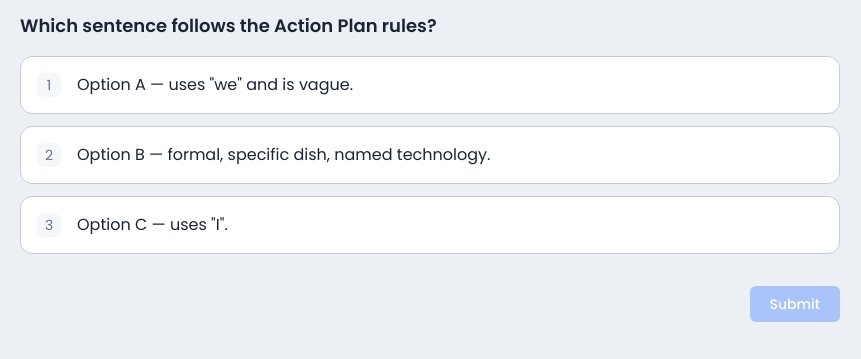
Test case: SlideMcq — incorrect answer › Submit is replaced by "Try again" message after wrong answer
The image size is (861, 359).
Click the button with aria-label "Option 1: Option A" at (215, 84), box [20,56,840,114]
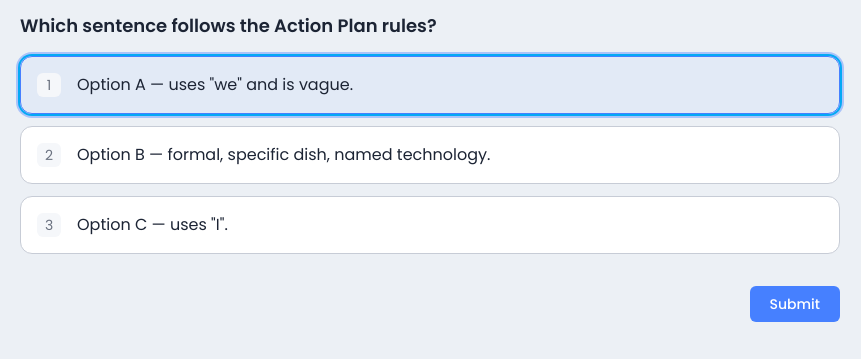
Click the button with aria-label "Submit answer" at (795, 304), box [750,286,840,322]
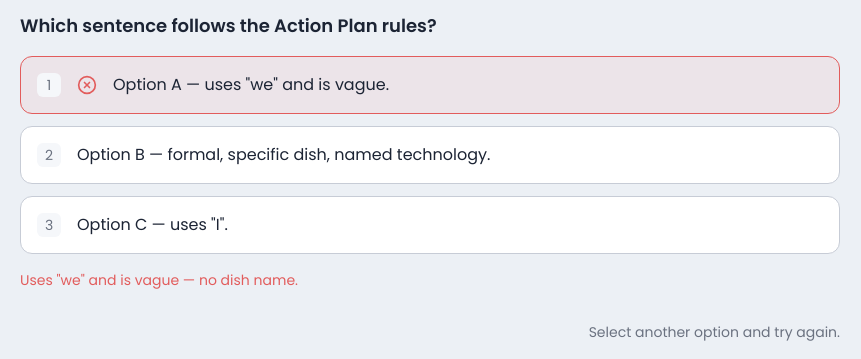
Now the text "Select another option and try again." is shown, box [589,322,840,342]
